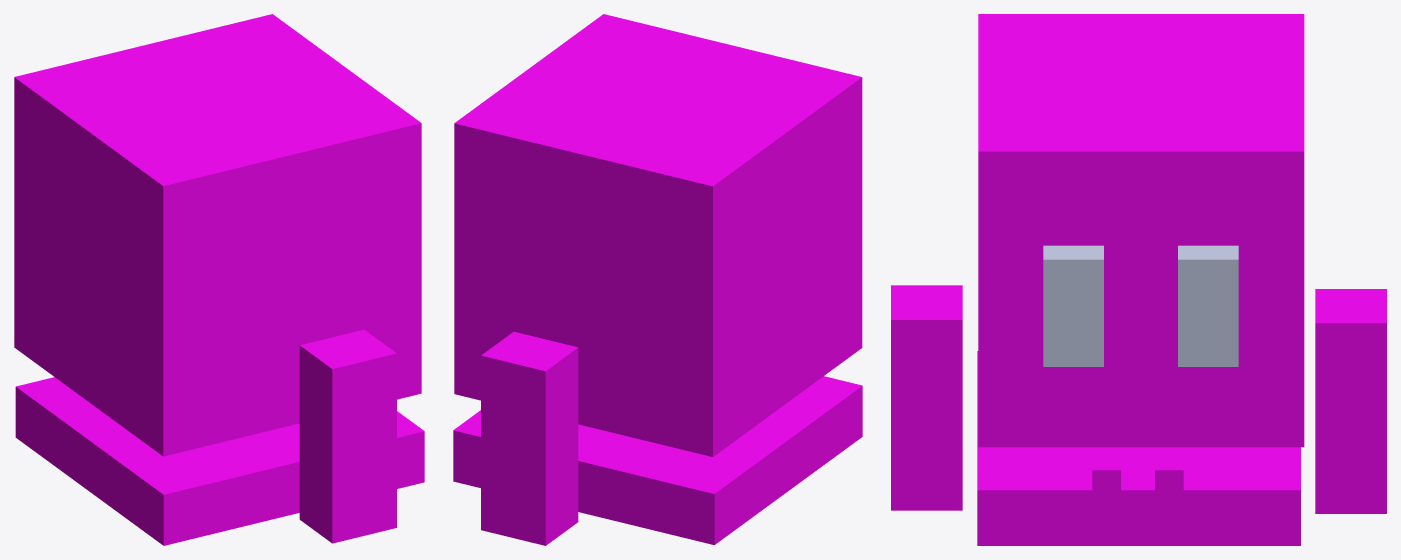
The model's file is spectat3.fbx.
3 views of the same model, side by side, from view 1: azimuth 30°, elevation 25°; view 2: azimuth 150°, elevation 25°; view 3: azimuth 270°, elevation 25° (orthographic). The views are drawn at different scales.
Visible parts, largest first — view 1: 3DGeom~18, Body_4, Body_2; view 2: 3DGeom~18, Body_4, Body_3; view 3: 3DGeom~18, Body_4, Body_2, Body_3, 3DGeom~17.
Part boxes in pixels (box(x1,y1,x2,y2)): 3DGeom~18: box(14, 14, 421, 456); Body_4: box(15, 377, 424, 545); Body_2: box(299, 329, 396, 543); 3DGeom~18: box(454, 14, 862, 456); Body_4: box(453, 376, 862, 544); Body_3: box(481, 331, 578, 545); 3DGeom~18: box(978, 14, 1304, 447); Body_4: box(977, 351, 1300, 545); Body_2: box(891, 285, 962, 510); Body_3: box(1315, 289, 1386, 513); 3DGeom~17: box(1043, 245, 1238, 366).
Bounding box in the file's own units: 0.11 × 0.152 × 0.1342.
